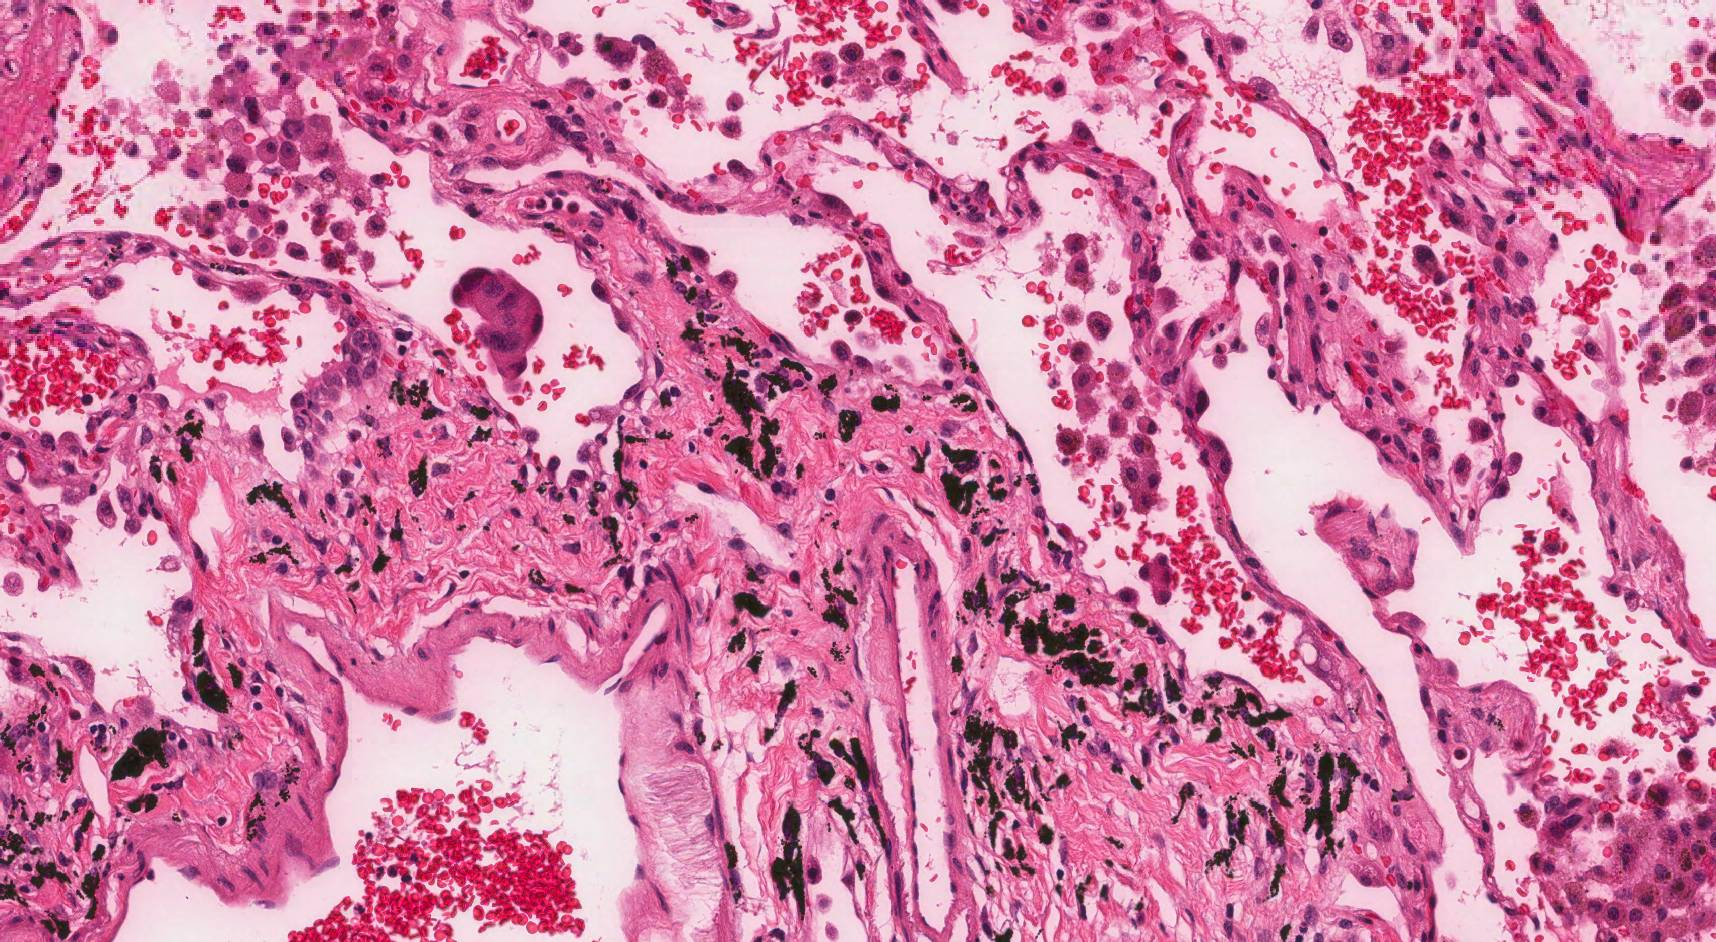stas: (449, 263, 544, 394)
